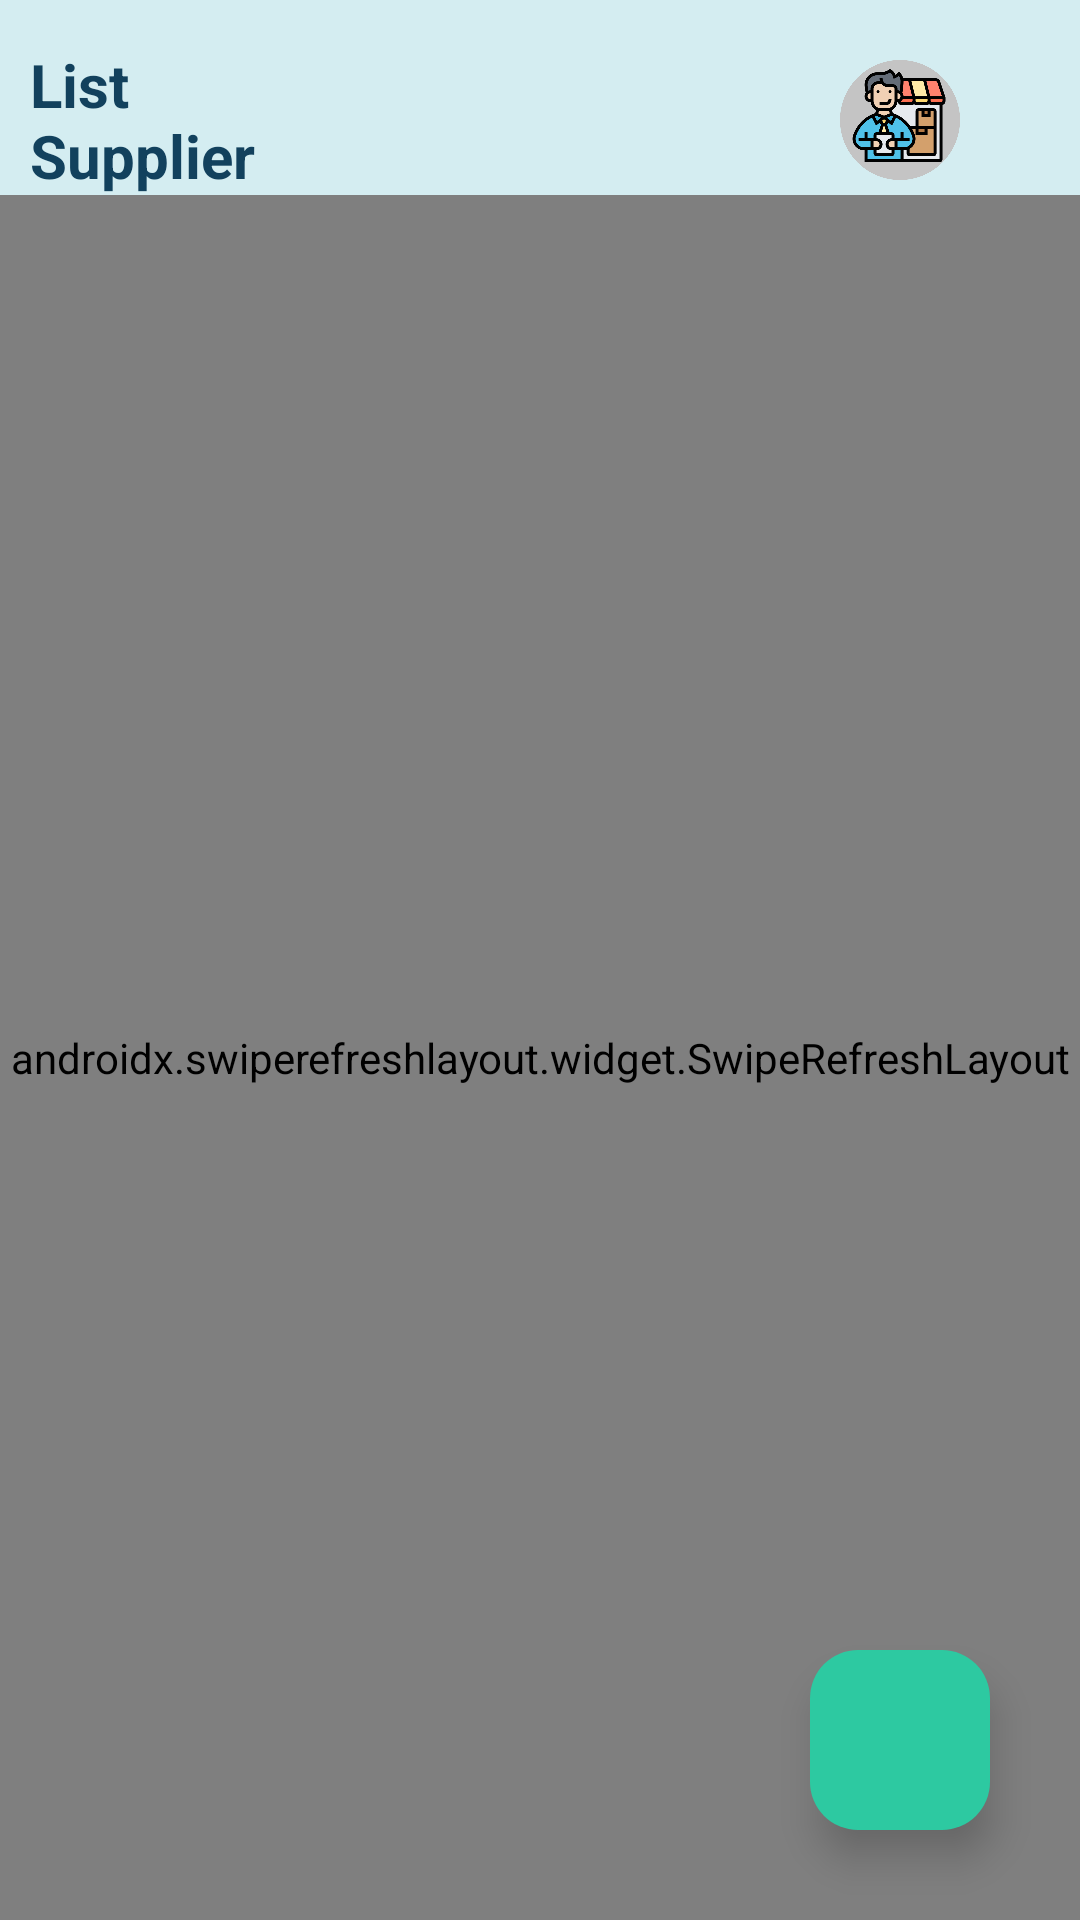

Named icons in this screenshot (1080 x 1920) and their centers, (x=x, y=y):
Profile: (x=900, y=120)
